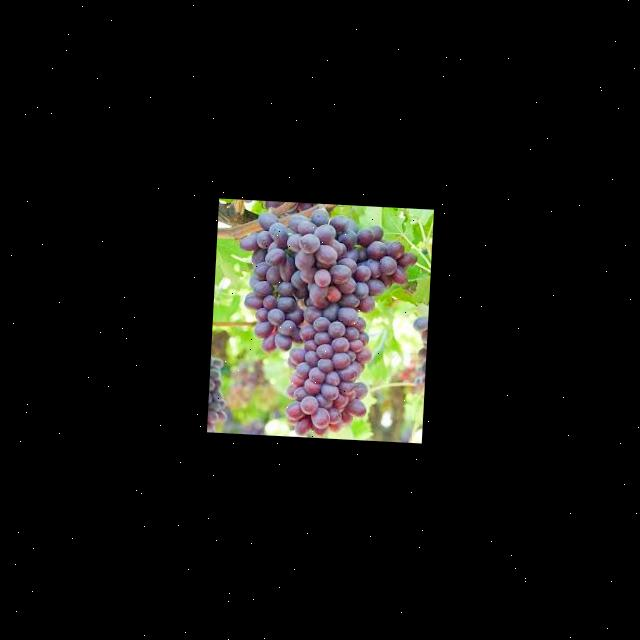grape: (228, 202, 420, 440)
